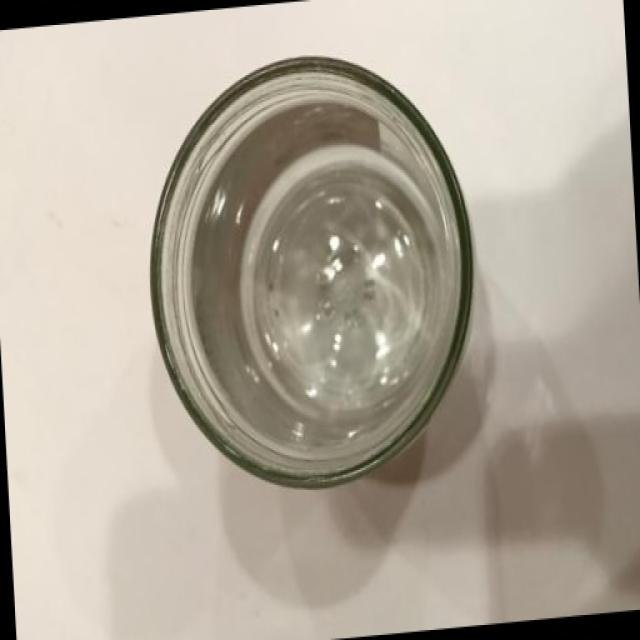vidrio: (105, 36, 539, 554)
